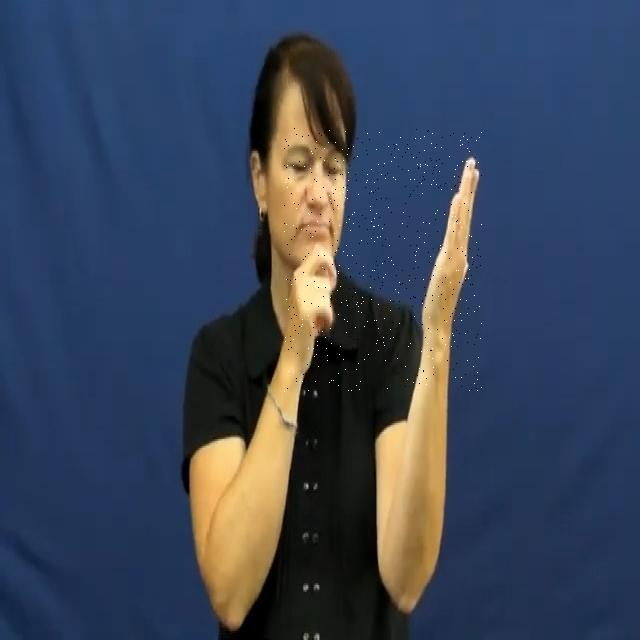menu: (284, 128, 482, 392)
